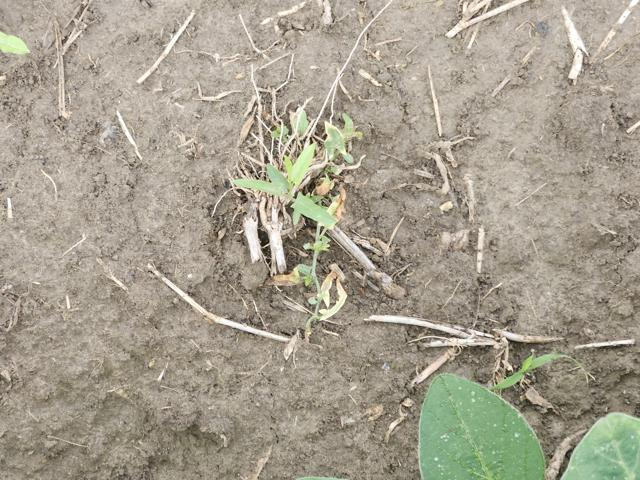bad weed: (176, 74, 414, 334), (495, 342, 609, 394)
